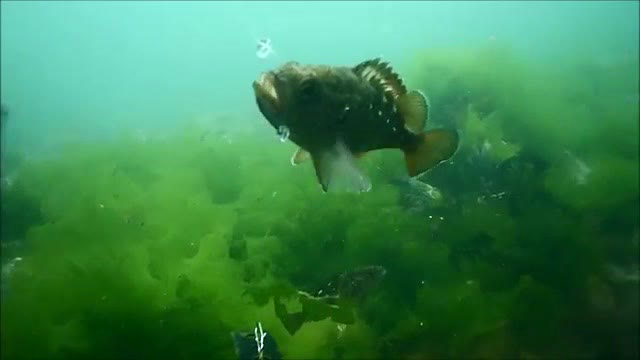mebaru: (262, 47, 469, 203)
